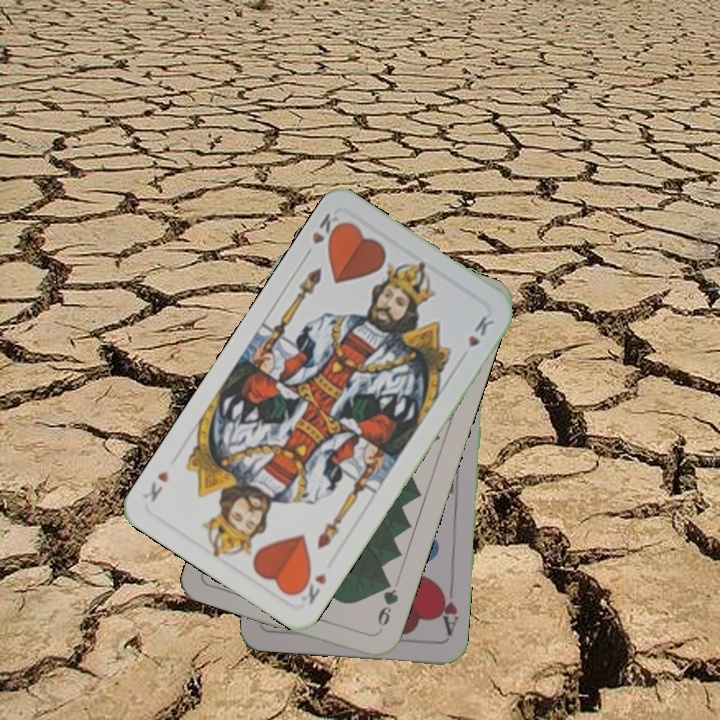G9: (374, 575, 401, 635)
HA: (434, 580, 461, 639)
HK: (300, 209, 346, 261), (292, 566, 329, 607)
